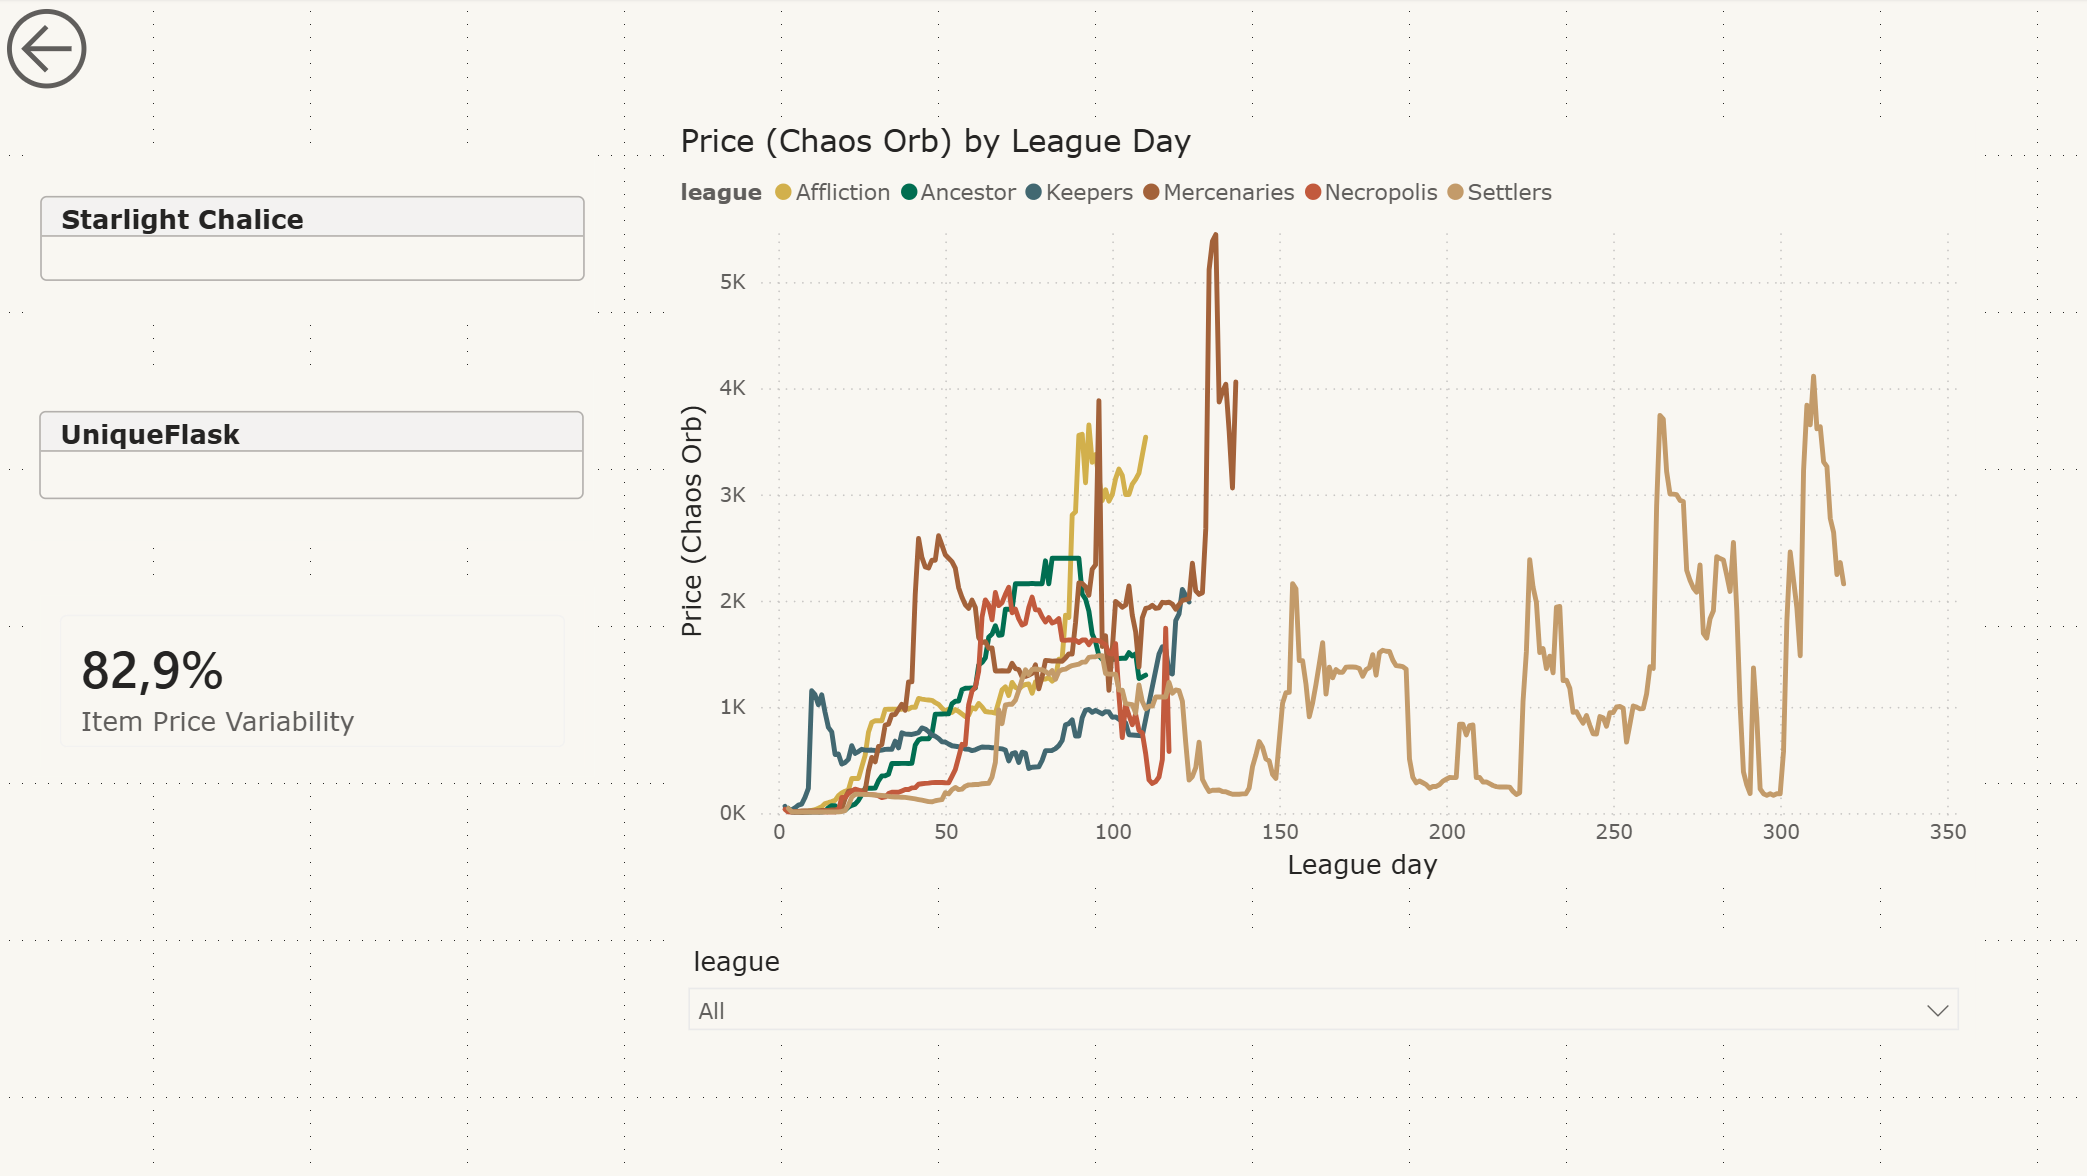

The dashboard page shown, as its layout file describes it:
{"tool":"powerbi","page":{"name":"Item detail","canvas":[1280,720],"ordinal":3},"visuals":[{"type":"actionButton","box":[0,0,118.9,62],"z":0},{"type":"cardVisual","fields":{"Data":["Min(dim_item.item_name)"]},"box":[14.1,74.9,473.8,110.1],"z":1000},{"type":"cardVisual","fields":{"Data":["Min(dim_item.category)"]},"box":[14.1,227.2,451.8,104.8],"z":2000},{"type":"cardVisual","fields":{"Data":["_Measures.Item Price Variability"]},"box":[14.1,369,362.9,115.4],"z":3000},{"type":"lineChart","title":"Price (Chaos Orb) by League Day","fields":{"Category":["fact_item_daily_top.league_day"],"Y":["Avg(fact_item_daily_top.price_chaos)"],"Series":["dim_league.league"]},"box":[487.9,103.9,778.6,455.3],"z":4000},{"type":"slicer","fields":{"Values":["dim_league.league"]},"box":[487.9,603.7,413.7,63.3],"z":5000},{"type":"slicer","fields":{"Values":["fact_item_daily_top.league_day"]},"box":[941.2,603.7,202.9,71.3],"z":5001}]}

Visuals, with their boxes in screenshot pixels (x1, y1, x2, y2), scaled from the page's 1280x720 canvas onto the 2087x1176 screenshot:
actionButton: [0, 0, 194, 101]
cardVisual - Min(dim_item.item_name): [23, 122, 796, 302]
cardVisual - Min(dim_item.category): [23, 371, 760, 542]
cardVisual - _Measures.Item Price Variability: [23, 603, 615, 791]
"Price (Chaos Orb) by League Day" lineChart: [796, 170, 2065, 913]
slicer - dim_league.league: [796, 986, 1470, 1089]
slicer - fact_item_daily_top.league_day: [1535, 986, 1865, 1102]
